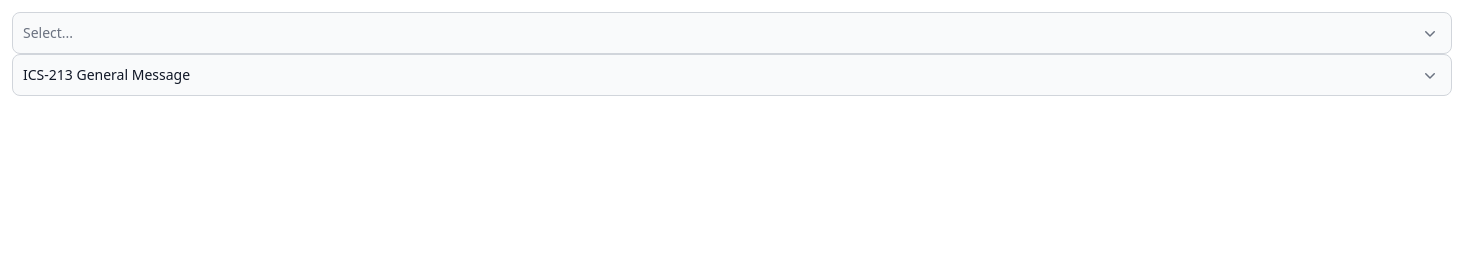
it: SearchableSelect › choosing › closes on Escape without changing the selection
This screenshot has width=1464, height=272.
Focus the 2nd dropdown: x=732, y=75 [12, 54, 1452, 96]
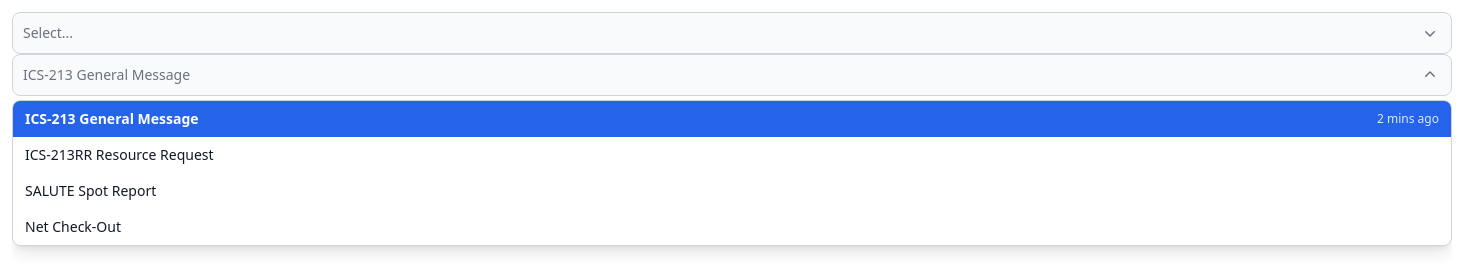
Press Esc in the dropdown with placeholder "ICS-213 General Message", box [12, 54, 1452, 96]
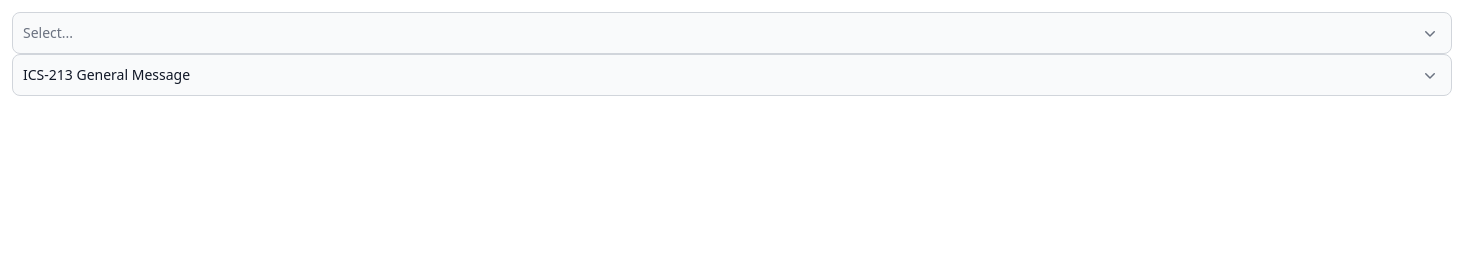
Now no options are shown
